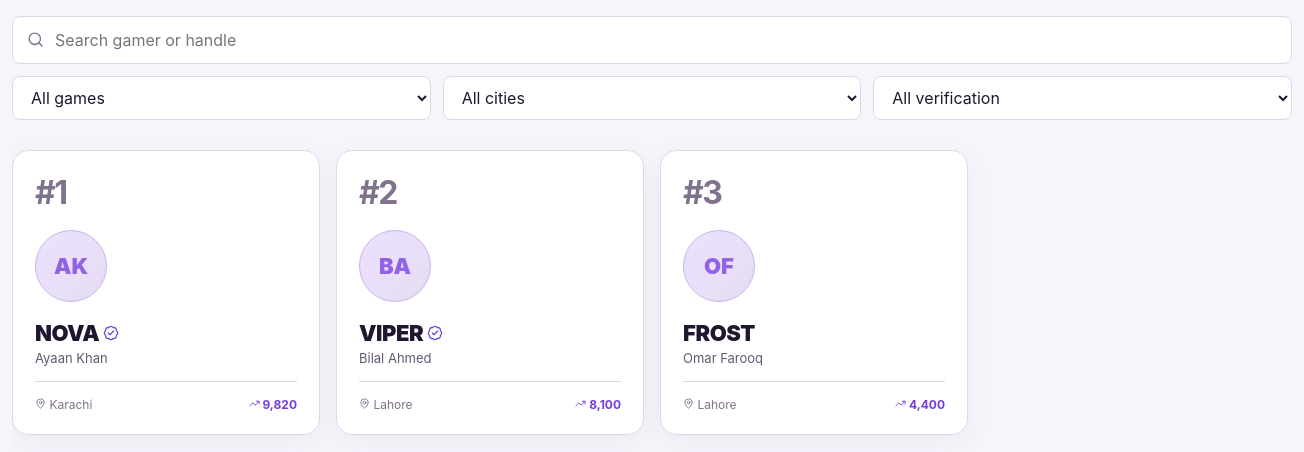
Test: GamerDirectory › filters by game and by verification state
The image size is (1304, 452).
Select "Dota 2" in the dropdown named "Filter rankings by game". click: (221, 98)
box: top-left (12, 76), bottom-right (431, 120)
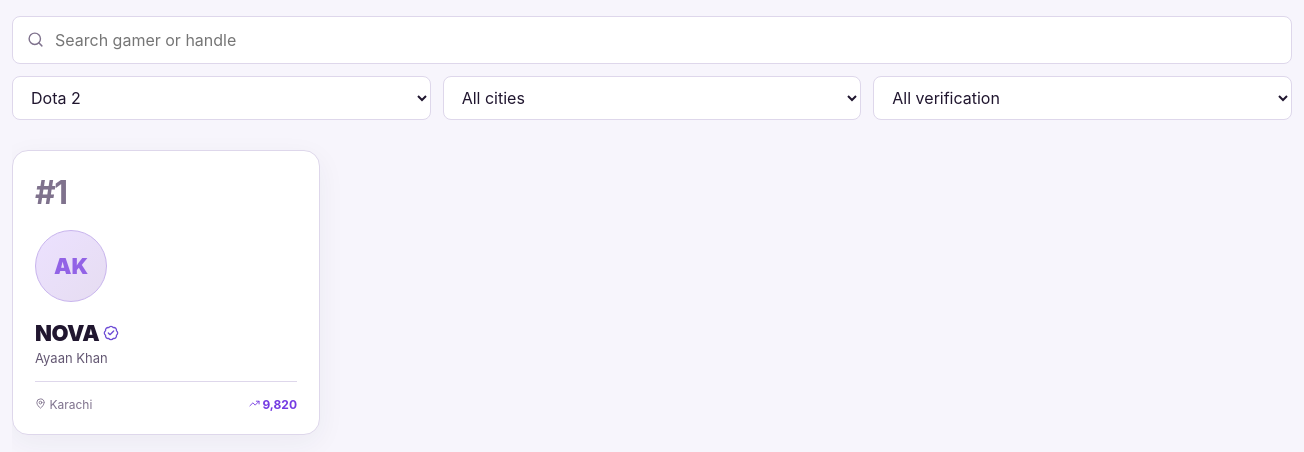
Expected: the link "#1 AK NOVA Ayaan Khan Karachi 9,820" is shown, top-left (12, 150), bottom-right (320, 435)
Now the link "VIPER" is gone
Select "All games" in the dropdown named "Filter rankings by game". click: (221, 98)
box: top-left (12, 76), bottom-right (431, 120)
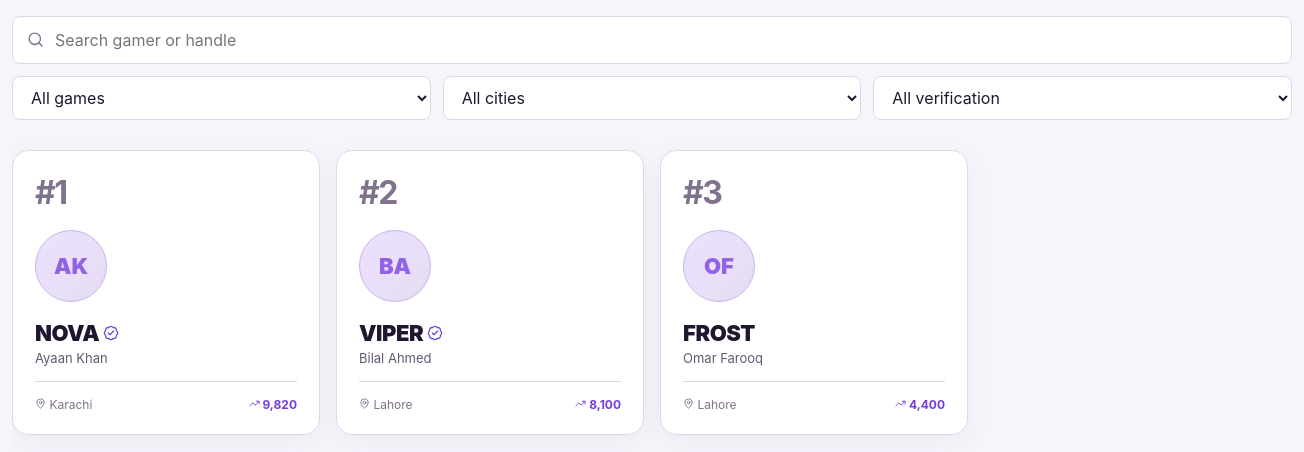
Select "Unverified" in the dropdown named "Filter rankings by verification". click: (1083, 98)
box: top-left (873, 76), bottom-right (1292, 120)
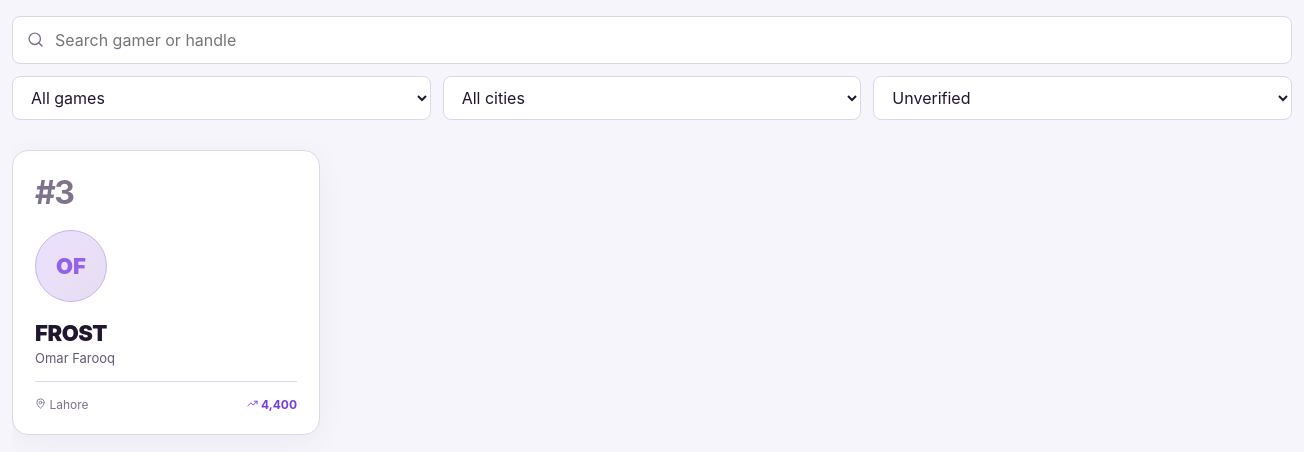
Now the link "#3 OF FROST Omar Farooq Lahore 4,400" is shown, box top-left (12, 150), bottom-right (320, 435)
Now the link "NOVA" is gone
